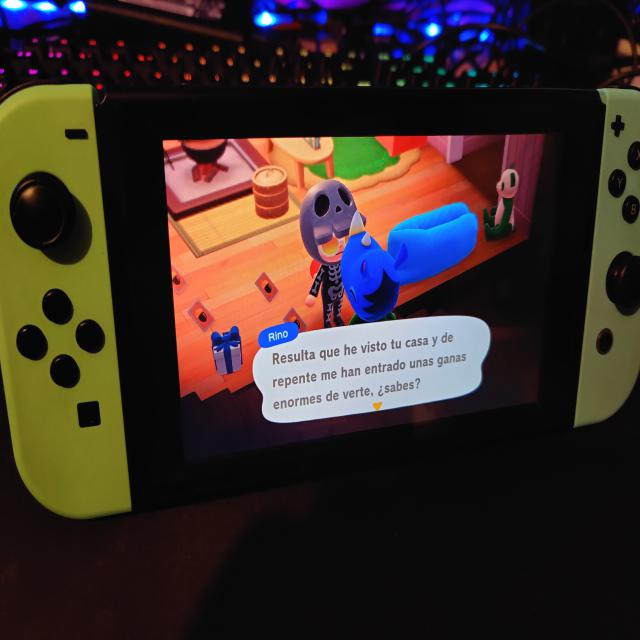text_bubble: (253, 313, 492, 426)
